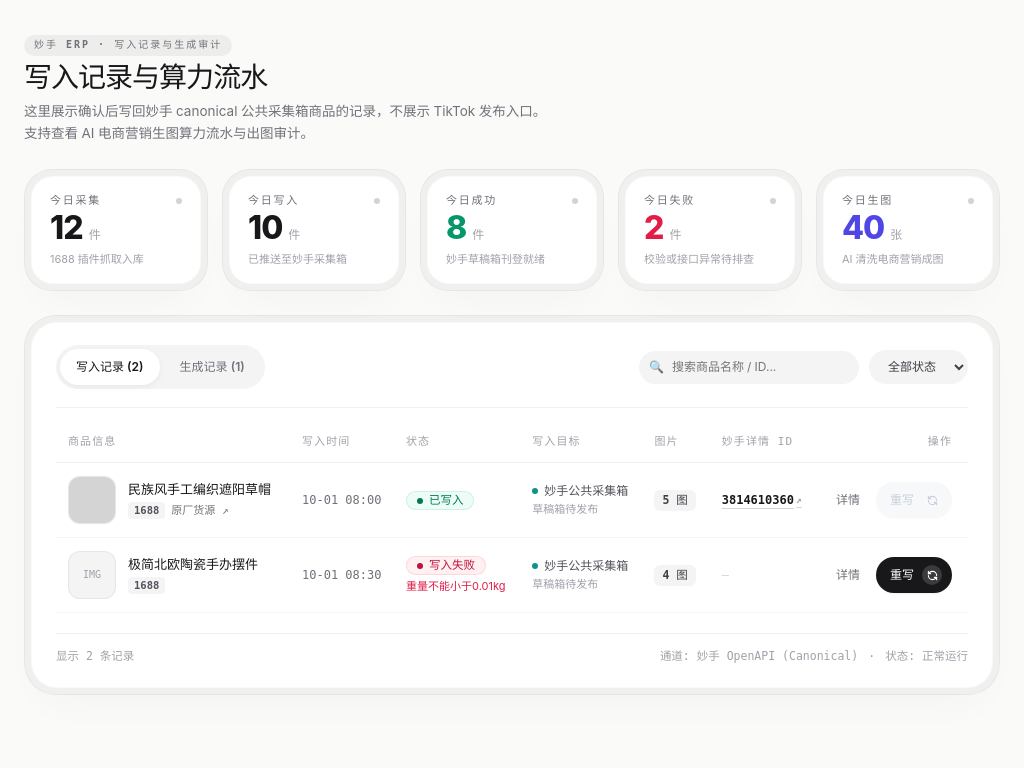
Test: WriteRecordsWorkspace › filters items by search input
Type "草帽" into the field with placeholder "搜索商品名称 / ID..." at [749, 368], box [639,351,859,384]
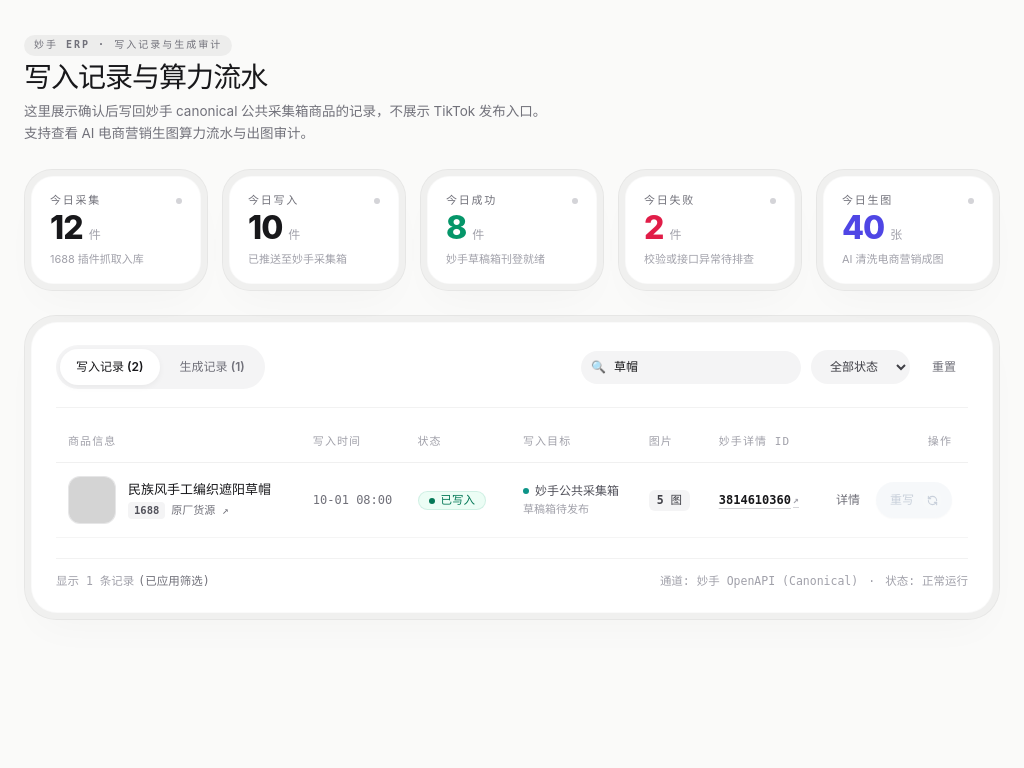
Expected: the text "民族风手工编织遮阳草帽" is shown, [128,482,289,499]
Now the text "极简北欧陶瓷手办摆件" is gone
